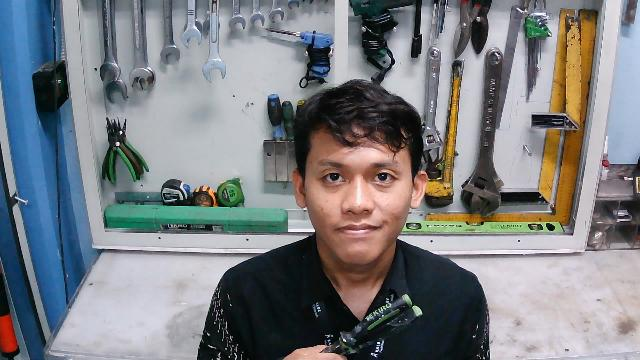tang_kombinasi: (312, 293, 423, 351)
